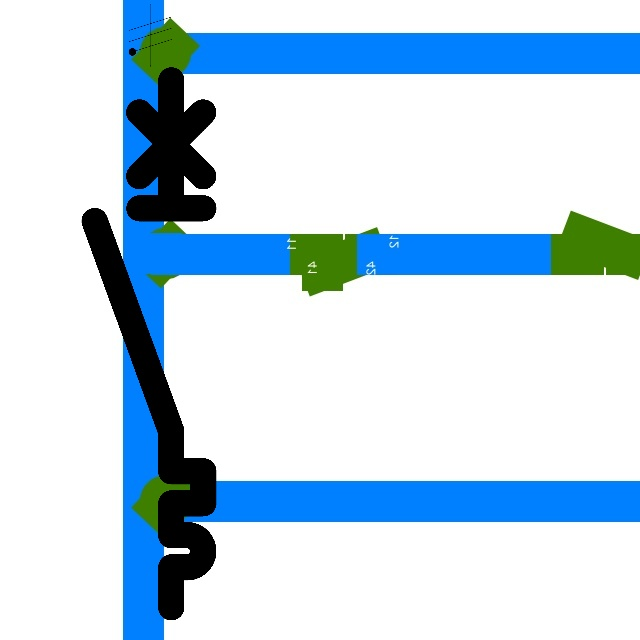interruptor_termomagnetico: (81, 66, 217, 620)
